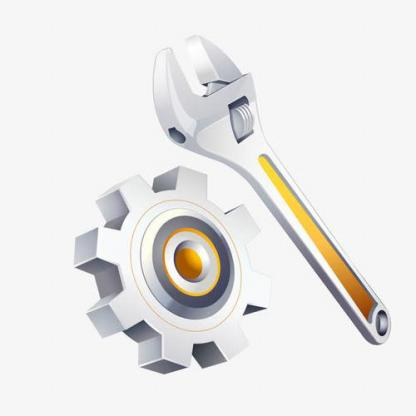FOD: (70, 166, 273, 378)
